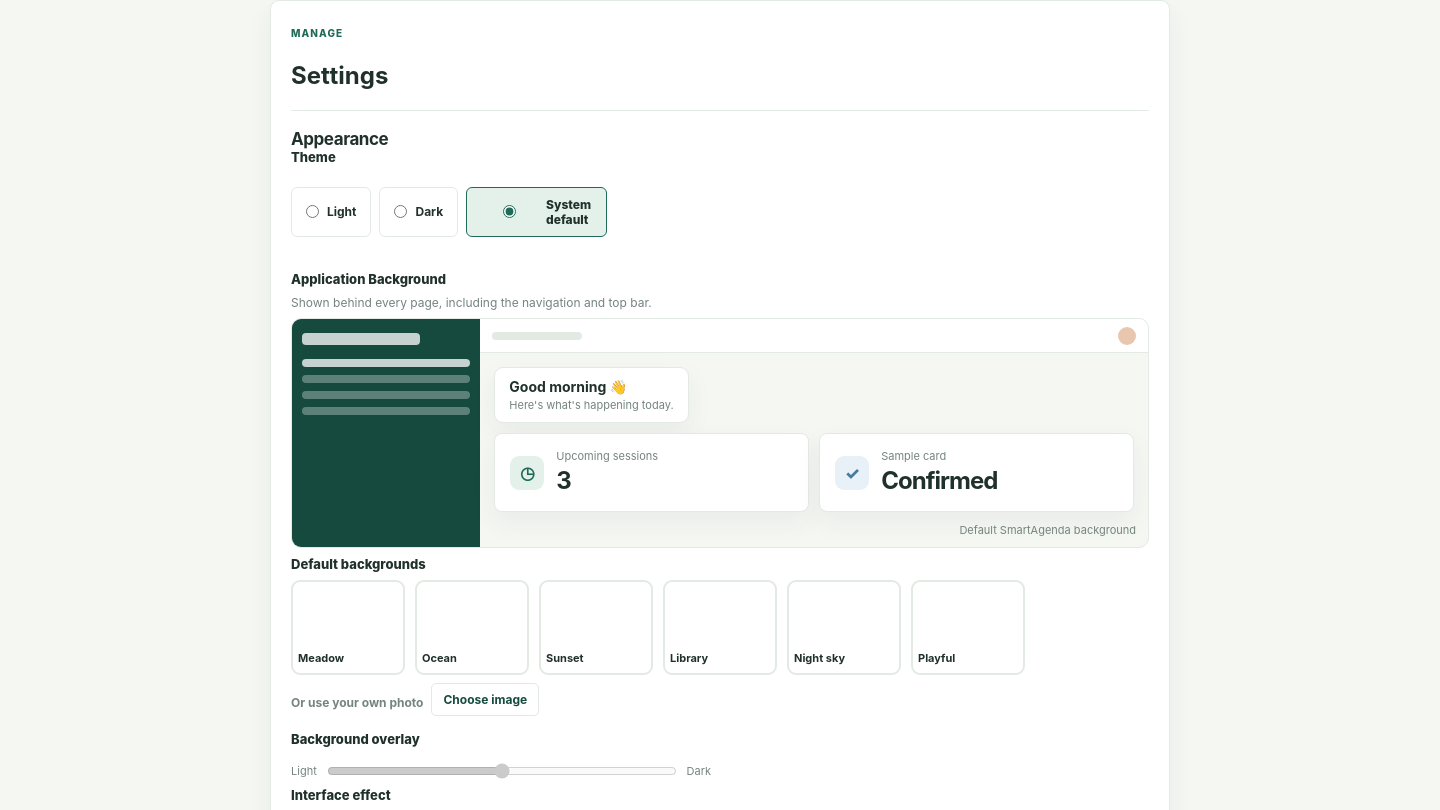
Scenario: updates appearance and privacy settings
Click the radio button labelled "Dark".
click(401, 212)  # box left=394, top=205, right=408, bottom=218
(page scrolled)
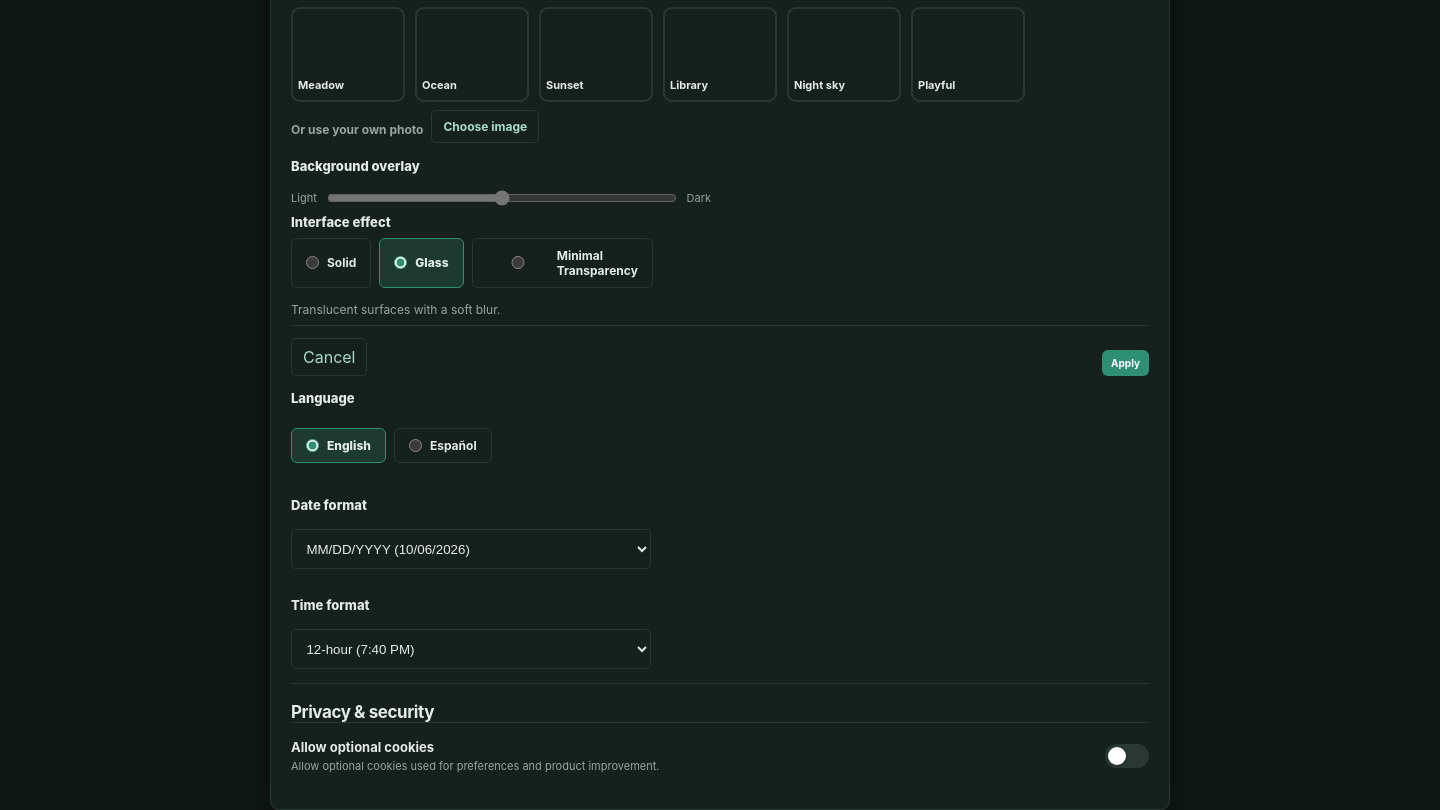
Select "DD/MM/YYYY (06/10/2026)" in the dropdown labelled "Date format" at (471, 549), box left=291, top=529, right=651, bottom=569
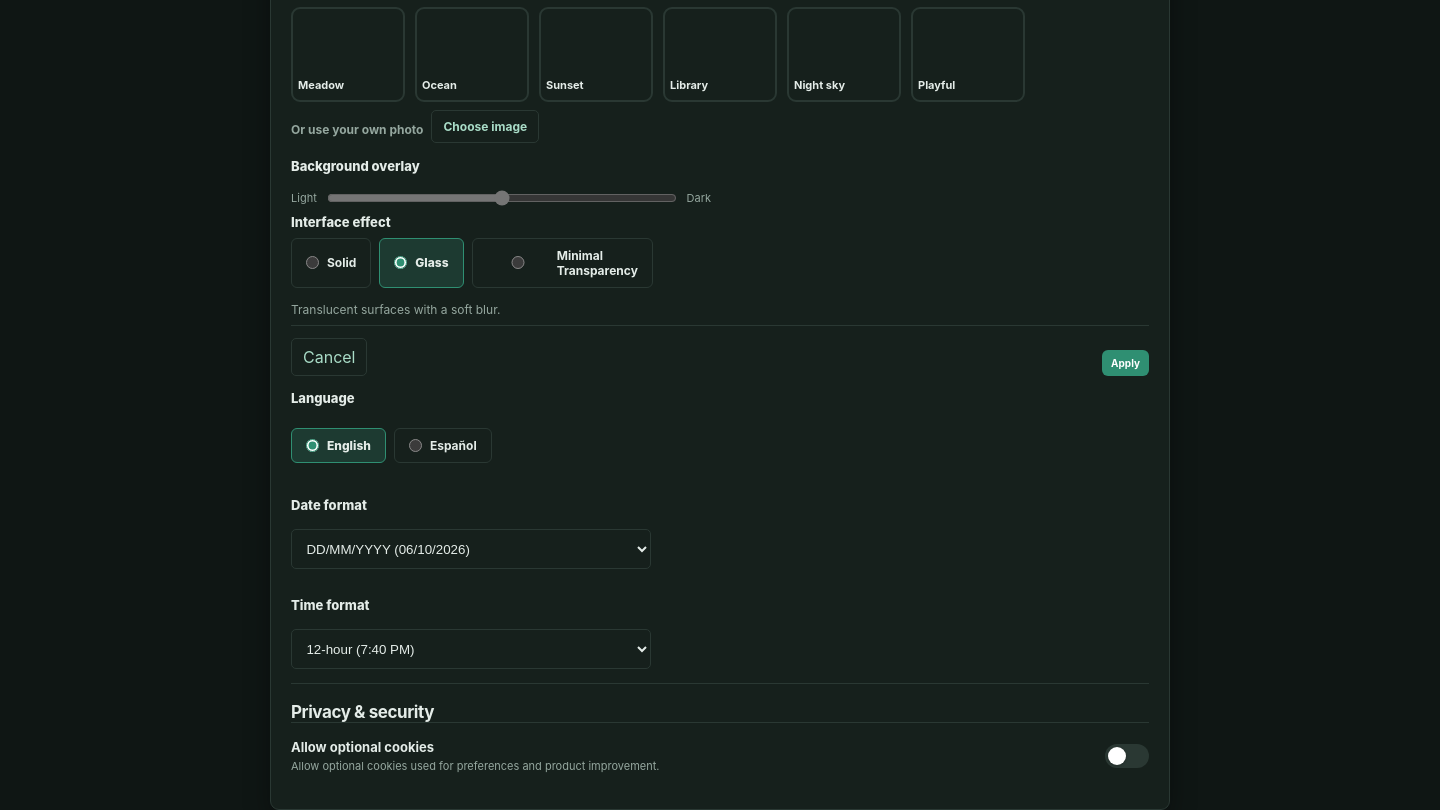
Select "24-hour (19:40)" in the dropdown labelled "Time format" at (471, 649), box left=291, top=629, right=651, bottom=669
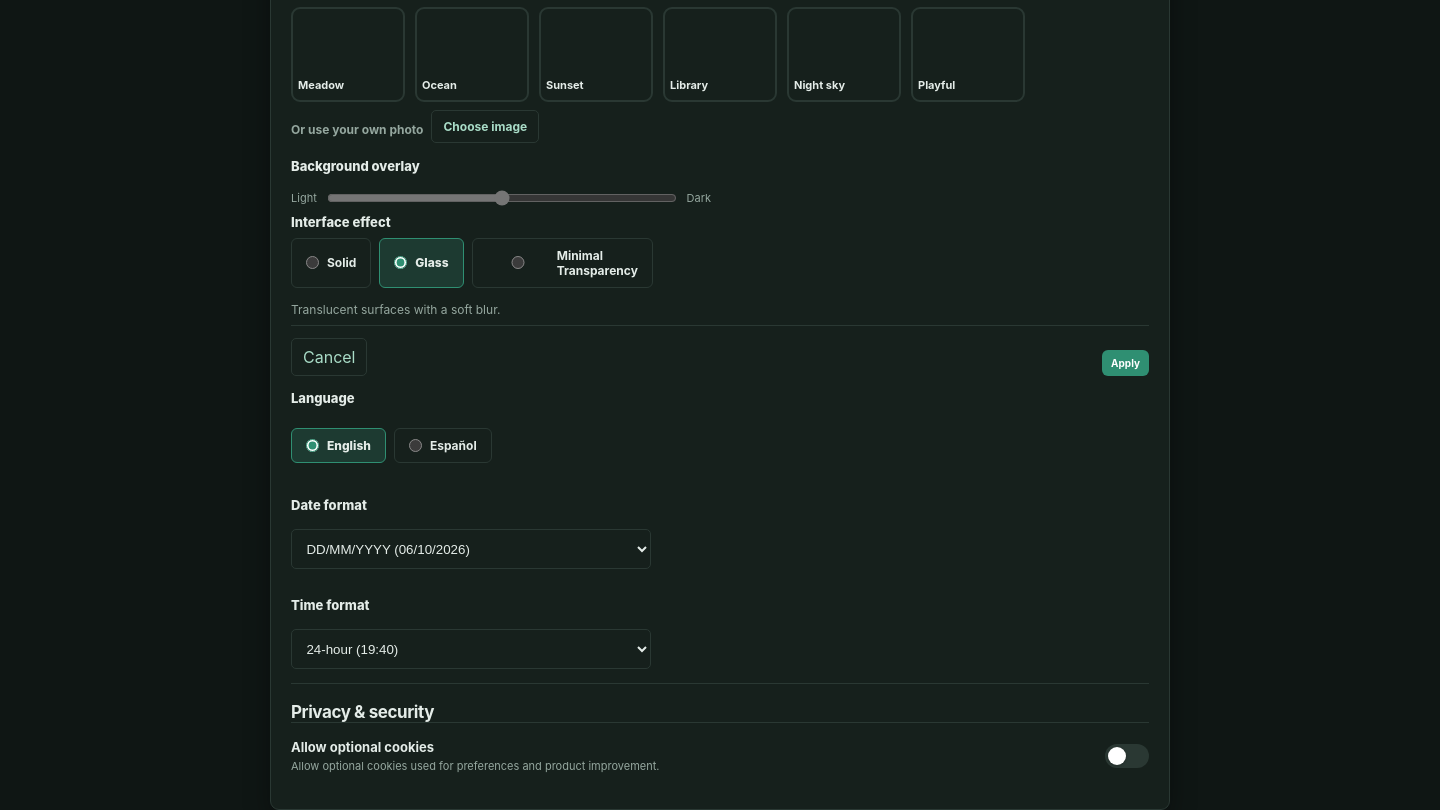
Click the switch named "Allow optional cookies".
click(1127, 756)  # box left=1105, top=744, right=1149, bottom=768
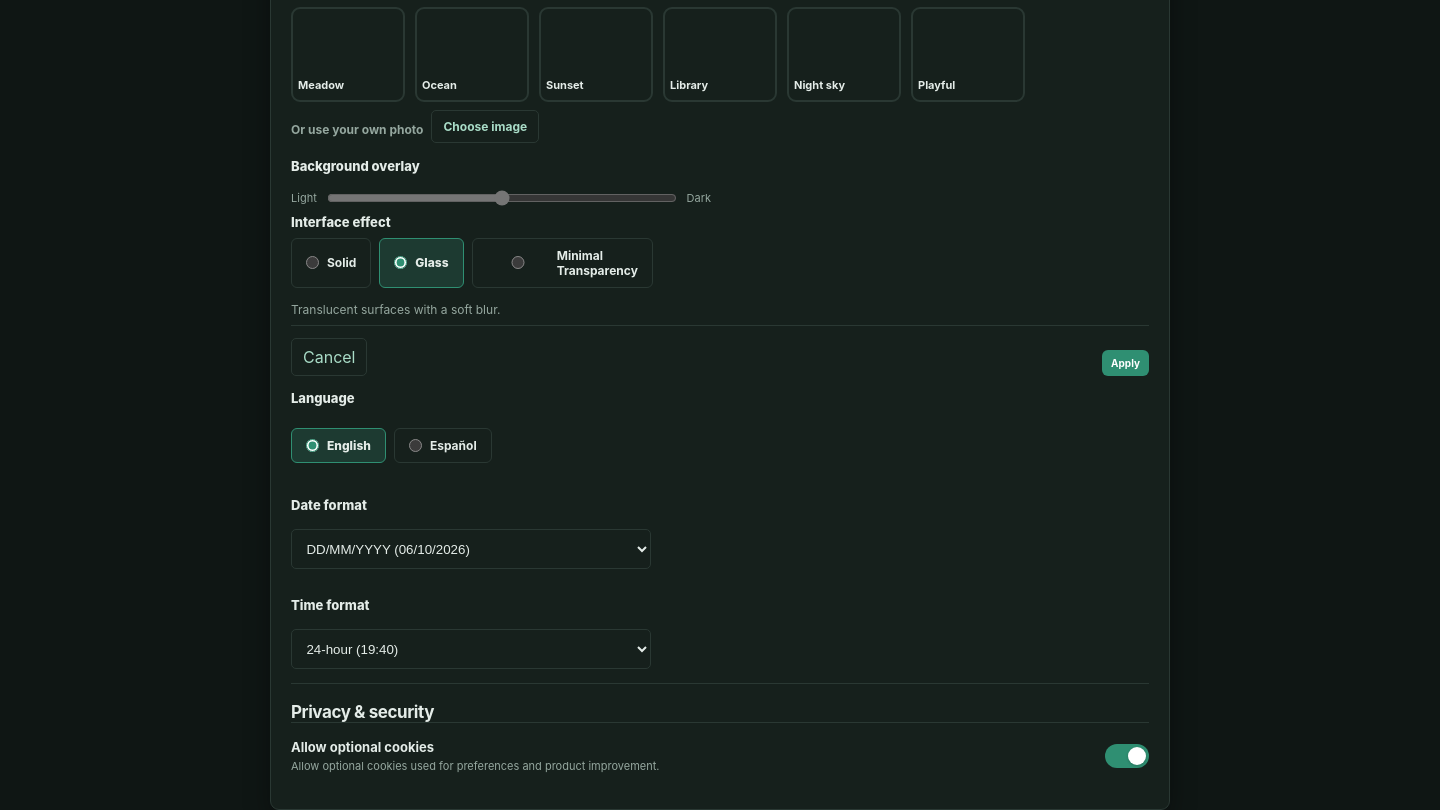
Expected: the switch named "Allow optional cookies" is checked, left=1105, top=744, right=1149, bottom=768
Click the radio button labelled "Español".
click(415, 446)  # box left=409, top=439, right=422, bottom=452
(page scrolled)
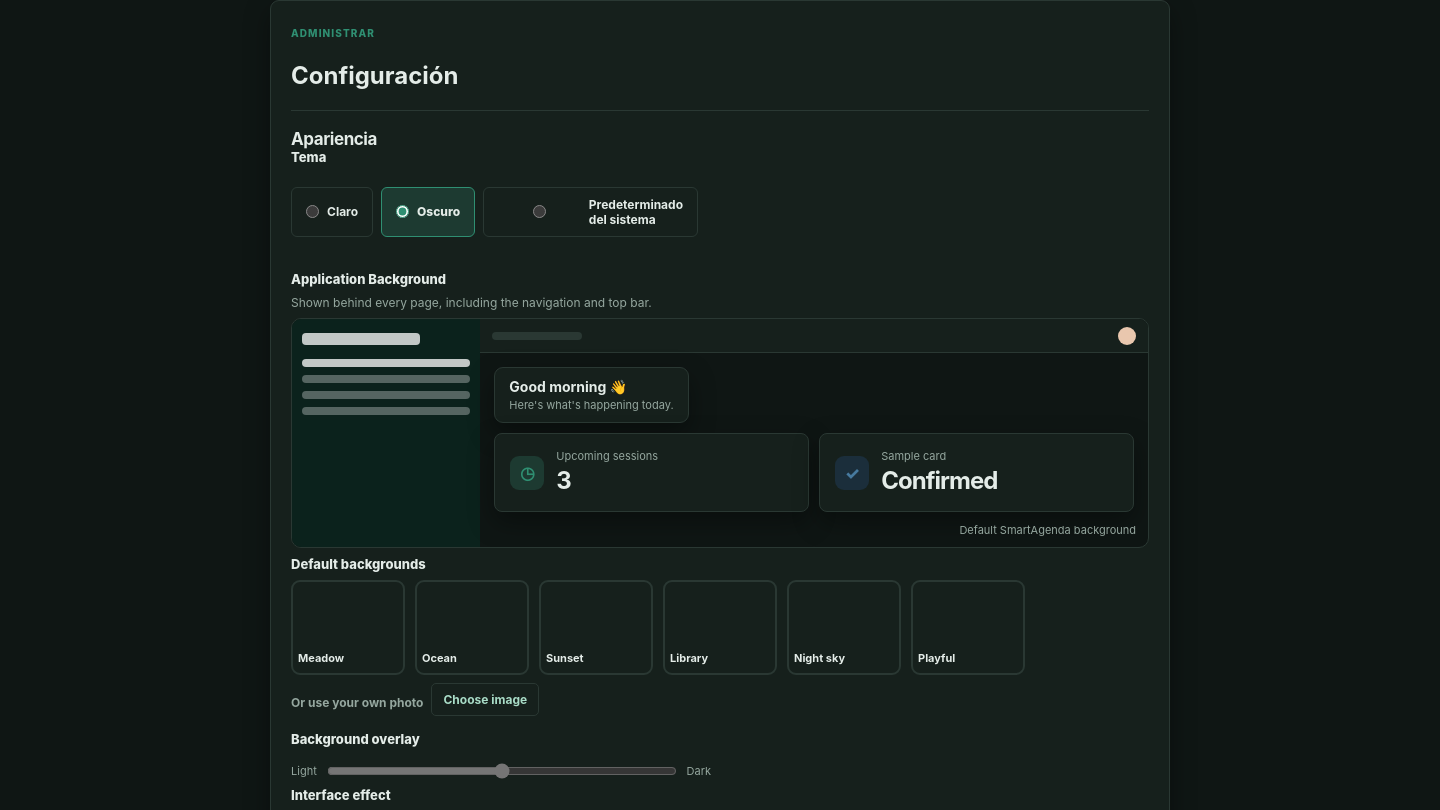
Expected: the heading "Configuración" is shown, left=291, top=61, right=458, bottom=90
